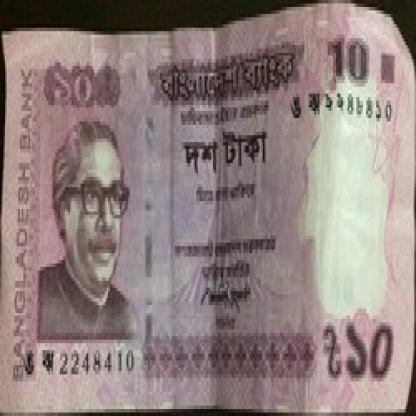Ten Taka: (344, 316, 404, 395), (38, 42, 100, 114), (326, 31, 376, 90)
